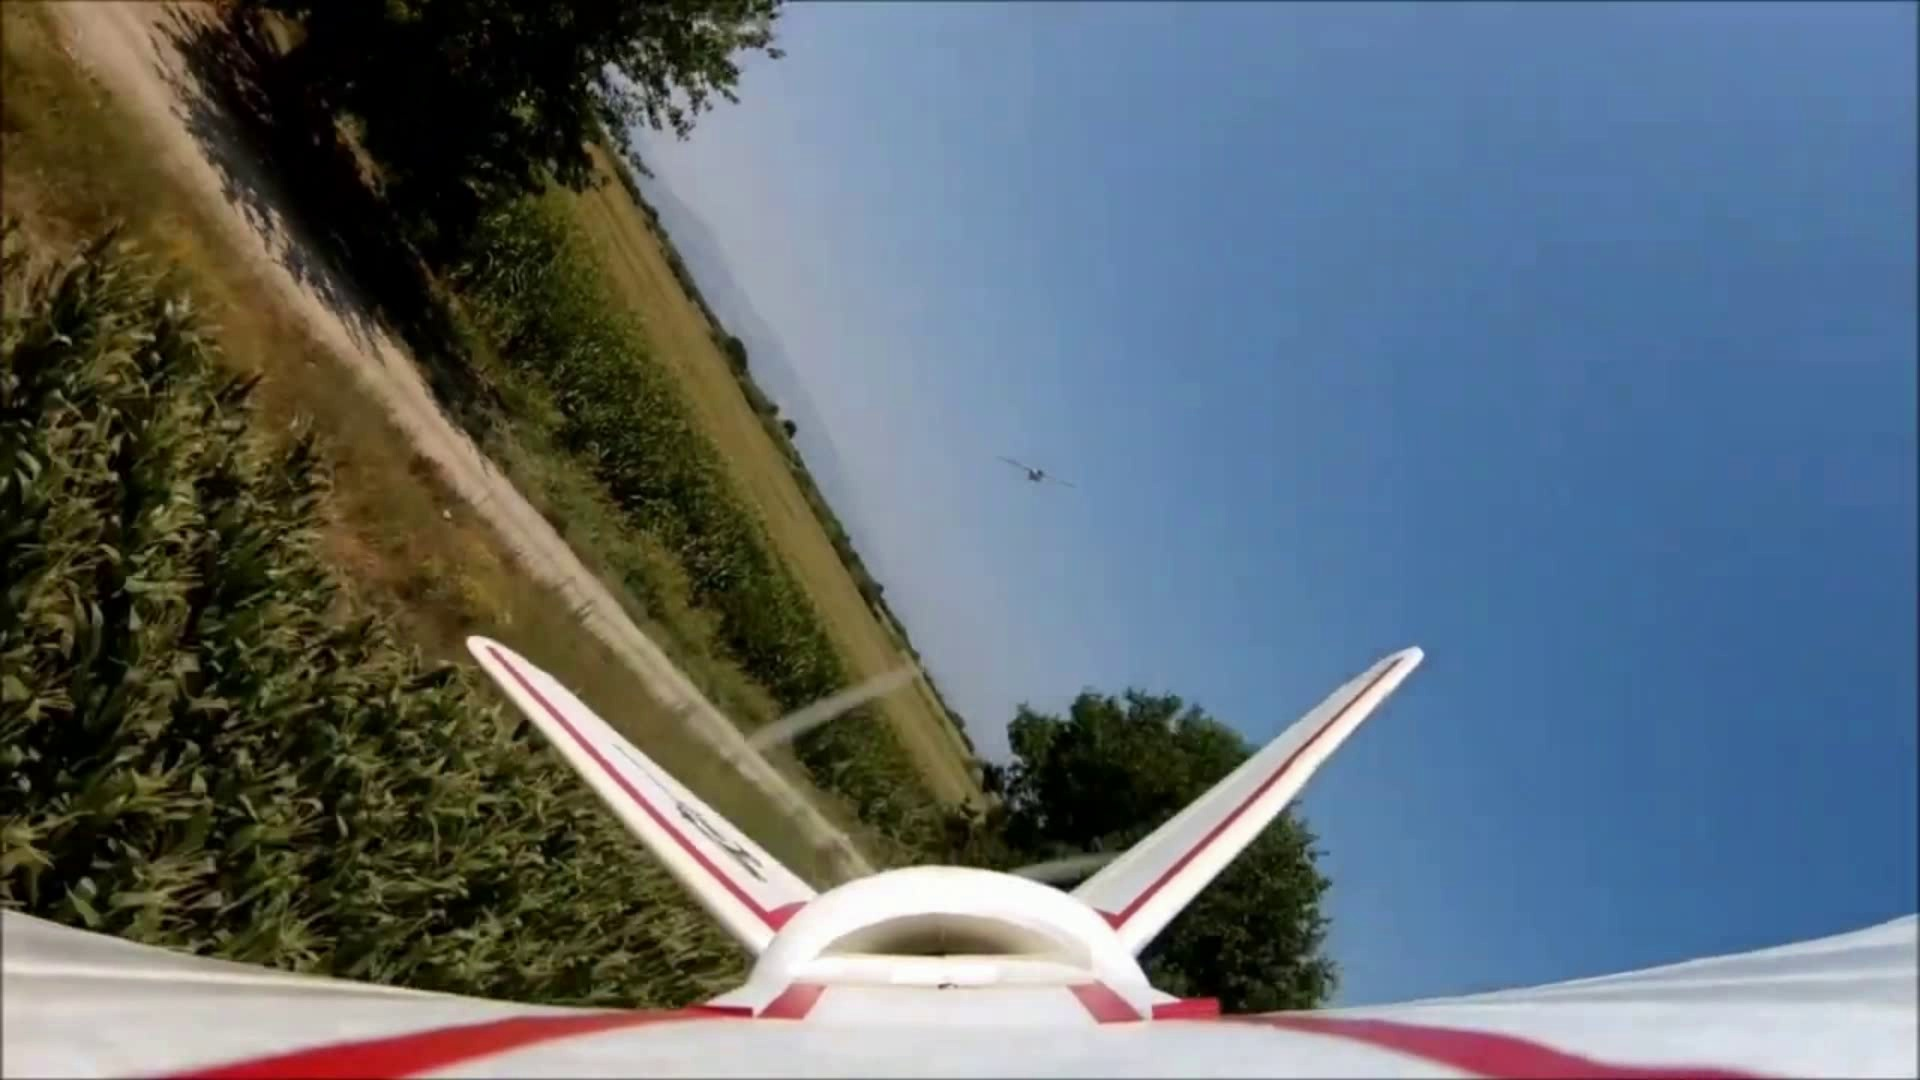airplane: (9, 632, 1891, 1062)
